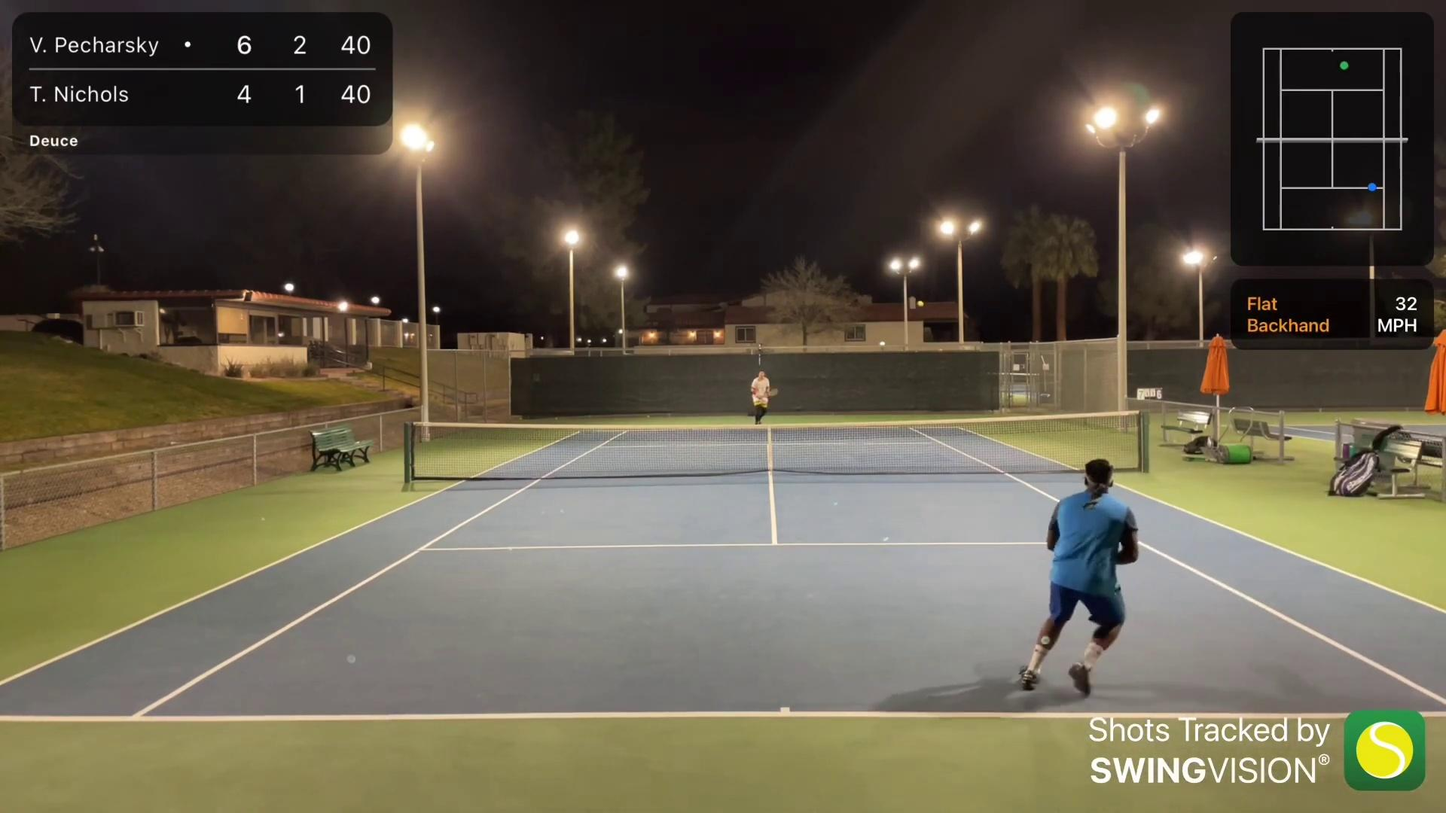ball: (918, 301, 925, 309)
